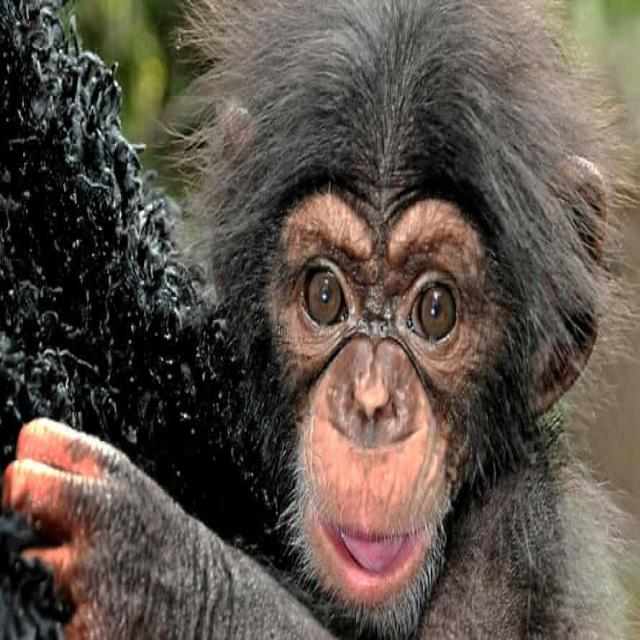chimpanzee: (3, 0, 624, 639)
